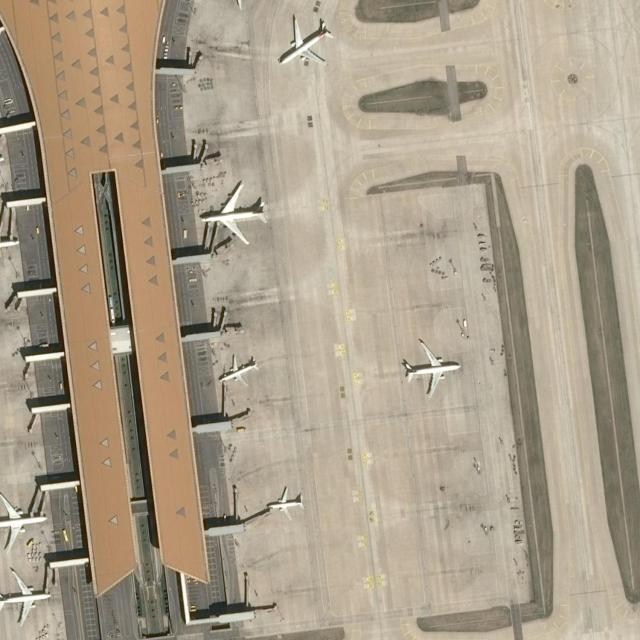Aircraft: (196, 177, 270, 247), (395, 340, 463, 394), (0, 488, 51, 554), (275, 16, 337, 67), (1, 569, 57, 624), (0, 211, 26, 278), (219, 351, 260, 391), (267, 485, 307, 519)
